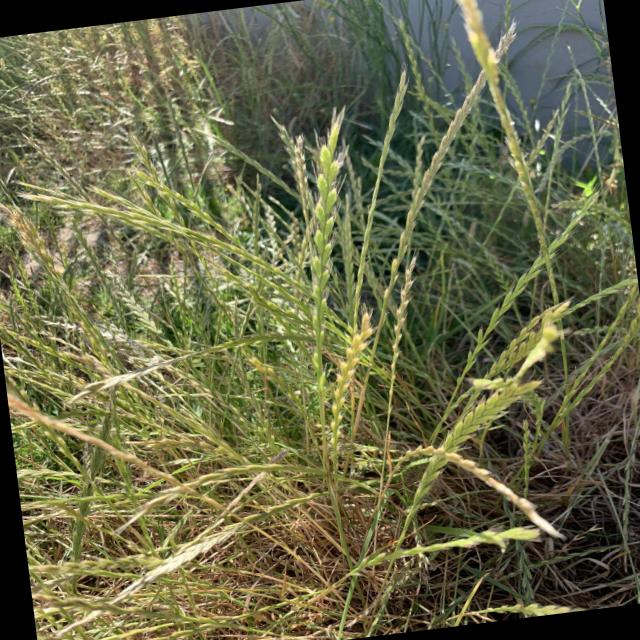Lolium: (0, 0, 640, 640), (54, 291, 454, 446), (400, 189, 622, 452), (338, 381, 558, 637), (266, 126, 396, 532), (195, 517, 548, 640), (25, 158, 288, 308)
